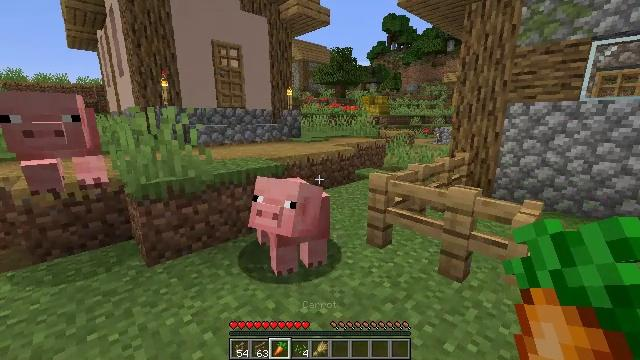pig: (1, 92, 107, 182), (249, 176, 330, 268)
